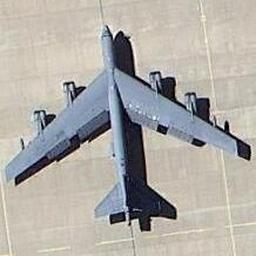Airplane: (4, 0, 251, 232)
